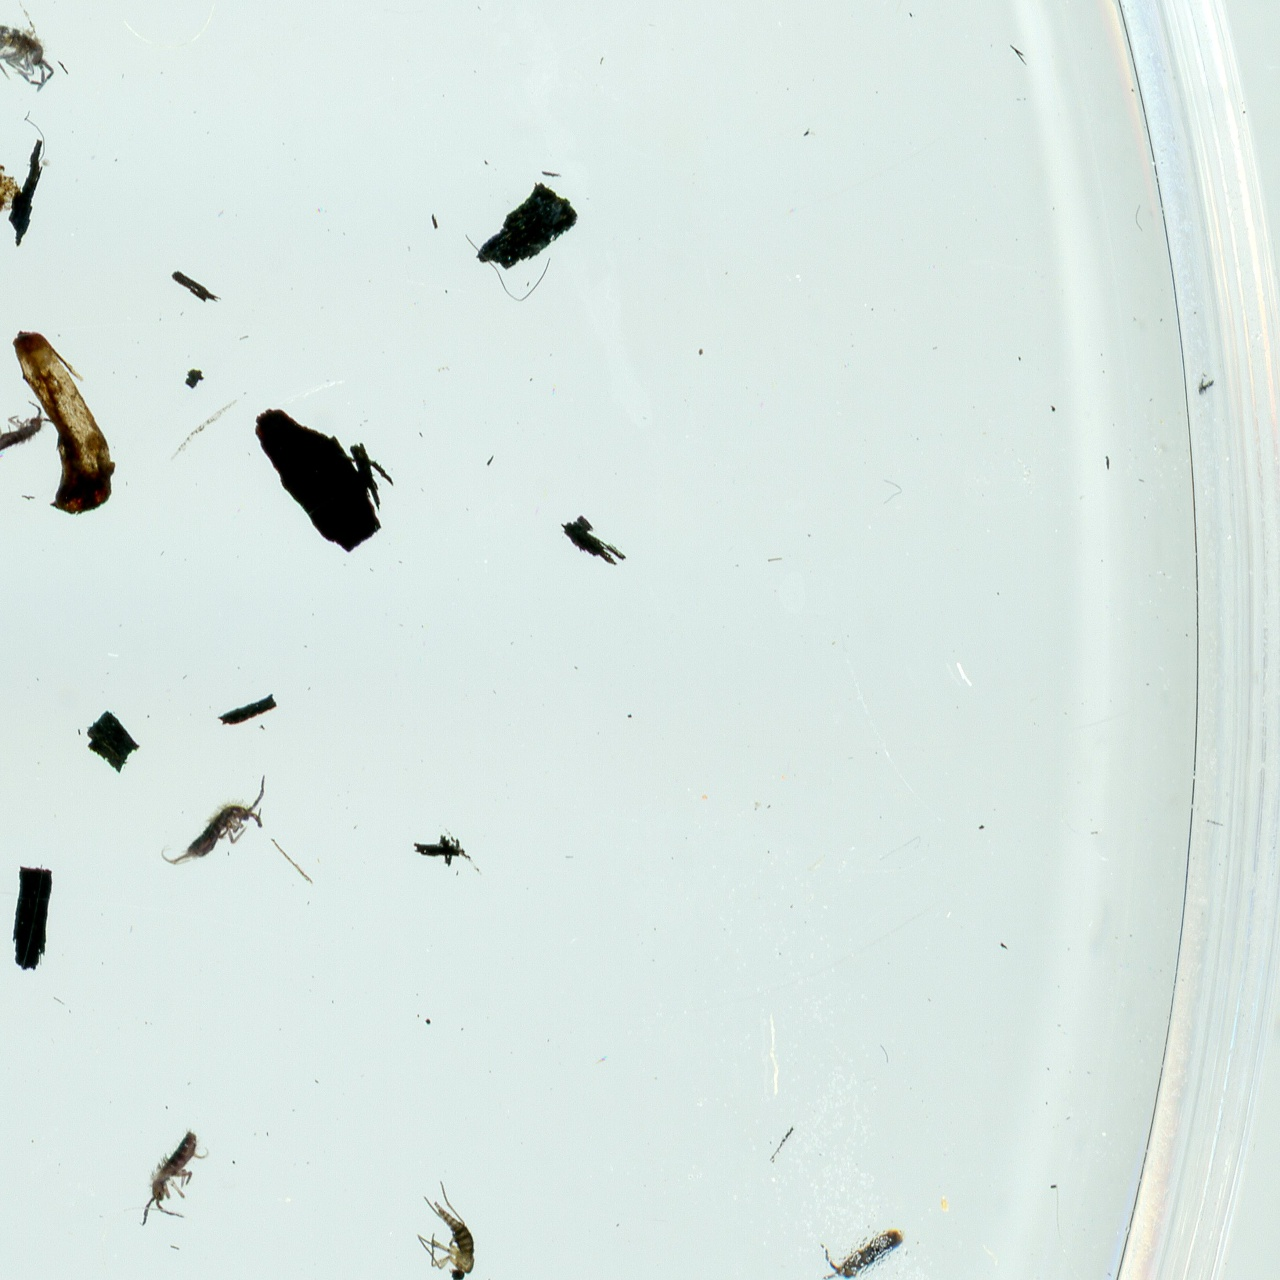arthropod: (154, 756, 293, 896), (121, 1116, 227, 1245), (801, 1192, 917, 1280), (415, 1178, 492, 1280), (0, 0, 70, 101), (0, 387, 61, 477)
